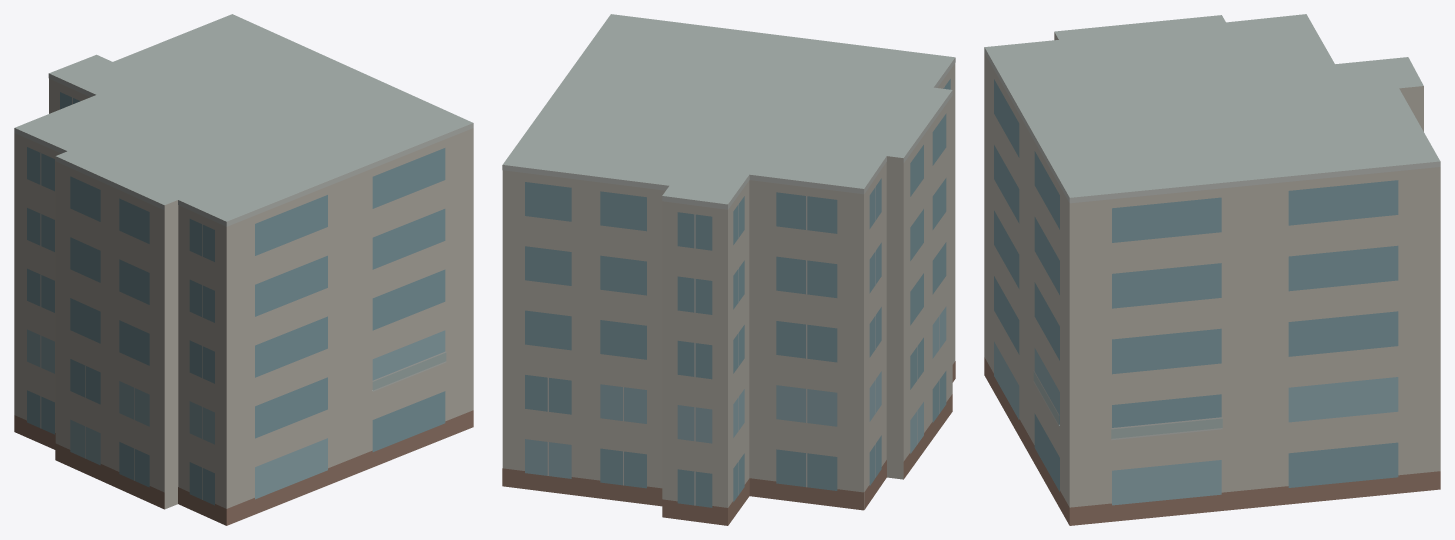
File: survey-upis-32613135.glb
3 renders of one model, left to right at view 1: azimuth 30°, elevation 25°; view 2: azimuth 150°, elevation 25°; view 3: azimuth 270°, elevation 25°, orthographic. The views are drawn at different scales.
Visible parts, largest first — view 1: survey-upis-32613135.tmp; view 2: survey-upis-32613135.tmp; view 3: survey-upis-32613135.tmp.
Part boxes in pixels (left/top/right/bottom): survey-upis-32613135.tmp: left=14, top=14, right=473, bottom=525; survey-upis-32613135.tmp: left=502, top=14, right=955, bottom=525; survey-upis-32613135.tmp: left=984, top=14, right=1440, bottom=525.
Size of the model in its own units: 17.44 by 14.5 by 18.28.
